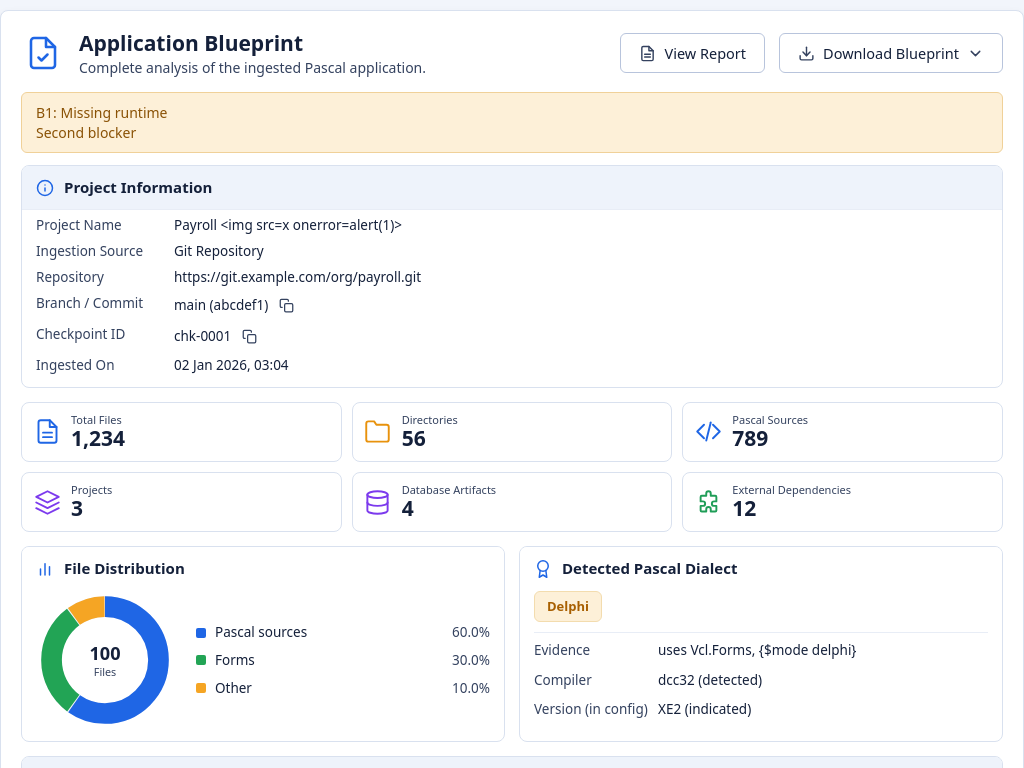
Test: fix 3: View Report opens the tab synchronously › closes the blank tab and shows the error when the fetch fails
Click the link "View Report".
click(693, 54)  # box [620,34,765,74]
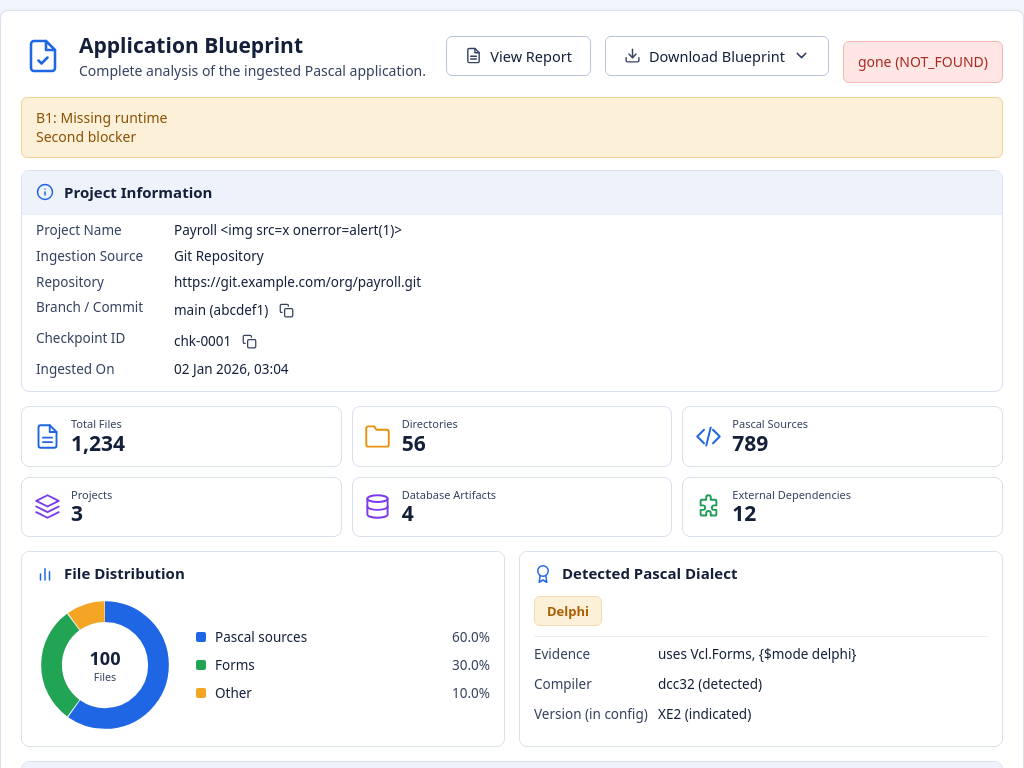
Now the text "gone (NOT_FOUND)" is shown, box [843,41,1003,83]
